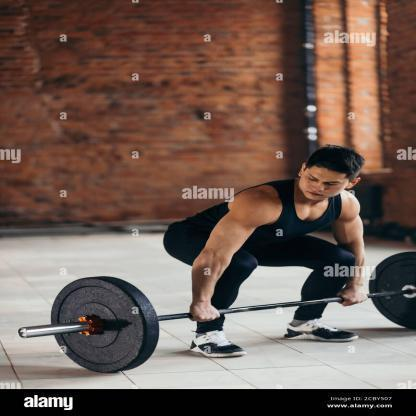Barbell: (9, 326, 37, 344)
